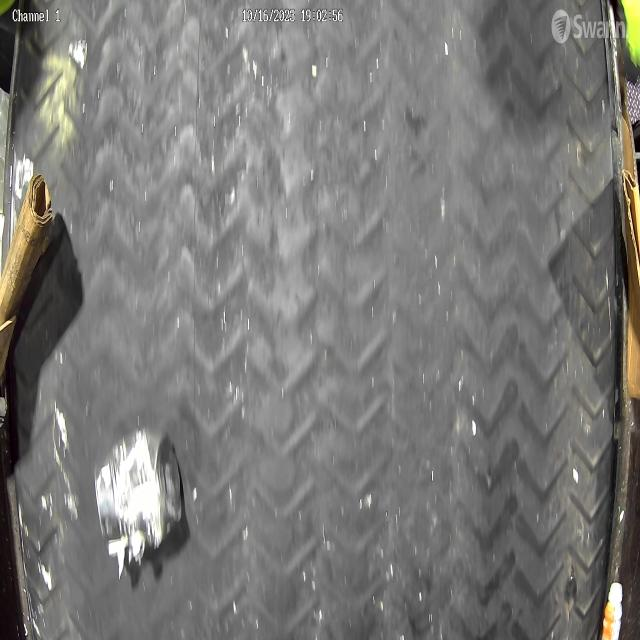can: (97, 428, 185, 558)
